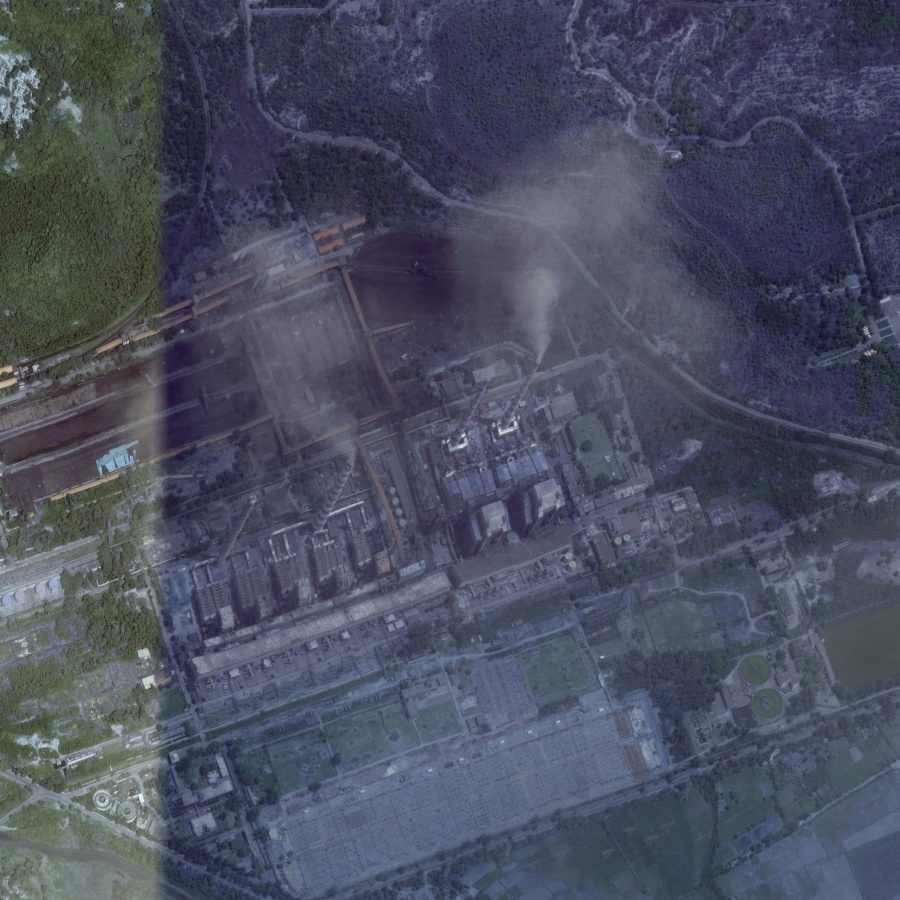PowerPlant: (189, 211, 644, 624)
